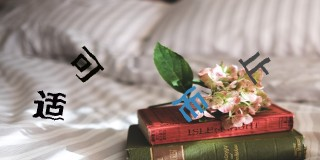可: (71, 46, 105, 83)
止: (239, 51, 270, 85)
而: (172, 87, 208, 122)
适: (32, 89, 66, 121)
